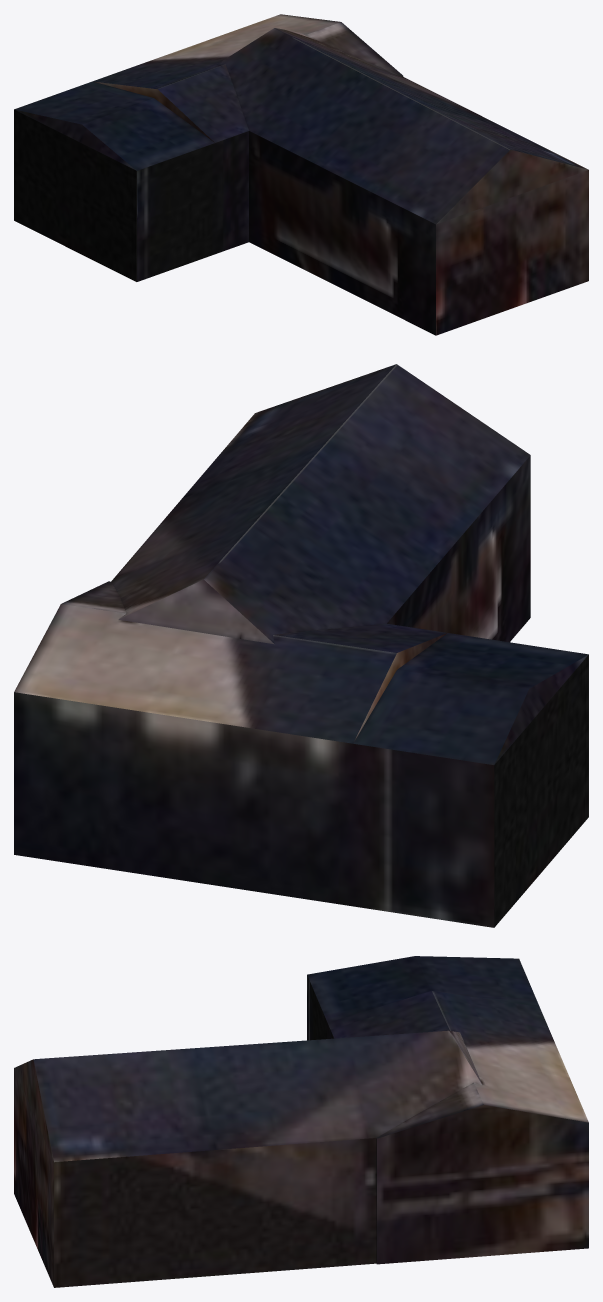
File: 01100-bldg-304616.glb
3 views of the same model, one above another, from view 1: azimuth 30°, elevation 25°; view 2: azimuth 150°, elevation 25°; view 3: azimuth 270°, elevation 25° (orthographic). The views are drawn at different scales.
Parts seen in each view (by area): view 1: model; view 2: model; view 3: model.
Part boxes in pixels (x1,y1,x2,y2): model: (14, 14, 588, 335); model: (14, 364, 588, 927); model: (14, 956, 588, 1287).
Size of the model in its own units: 22.33 by 9.22 by 26.64.
2 materials, 1 textured.
